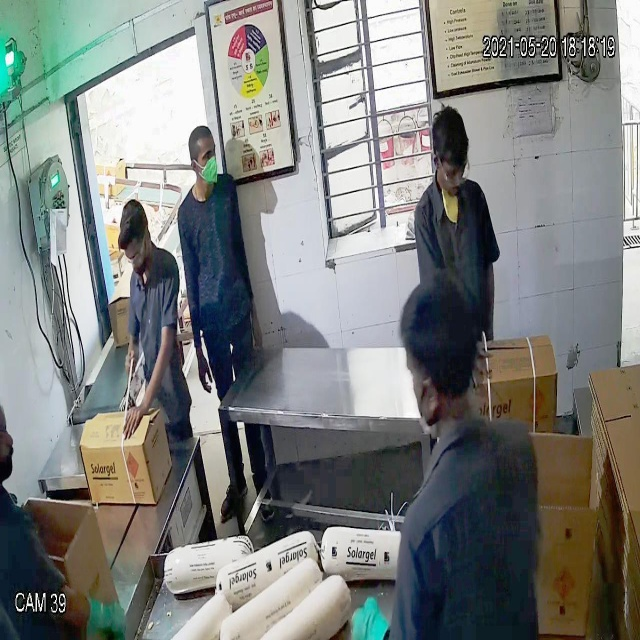Gafas: (432, 152, 472, 190), (121, 241, 151, 268)
Sin_gafas: (184, 144, 219, 171)
